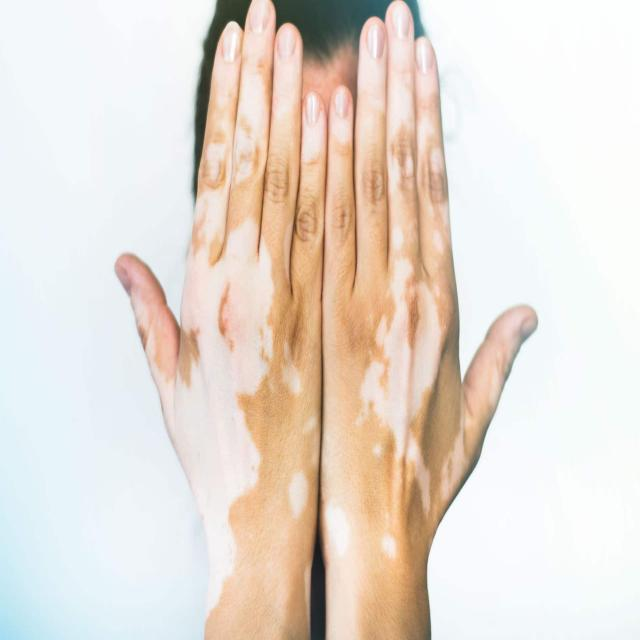vitiligo: (196, 40, 320, 606), (335, 25, 446, 626)
